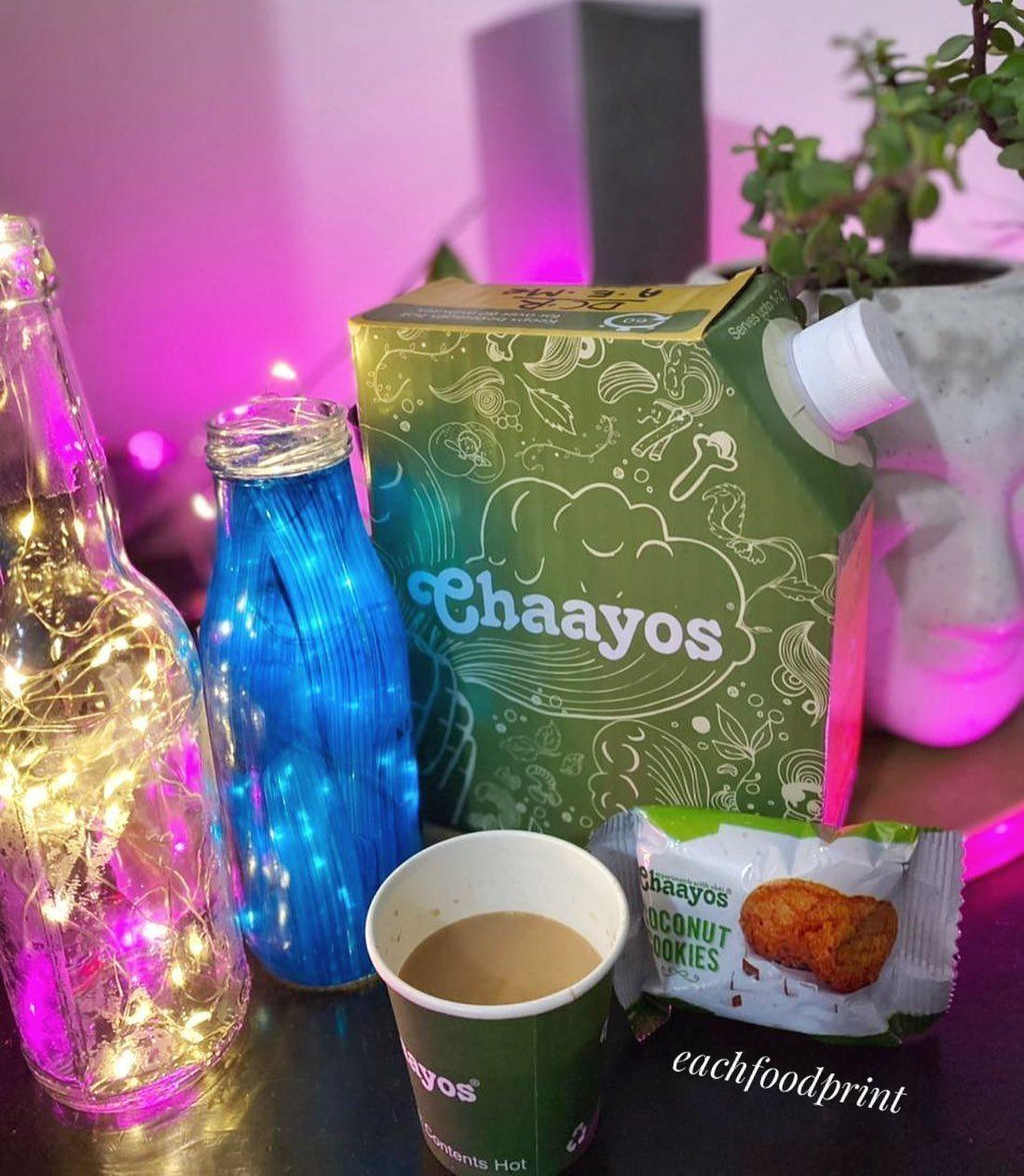bottle-glass: (0, 203, 248, 1123)
cup-disposable: (360, 827, 643, 1176)
gym bottle: (195, 388, 438, 1002)
